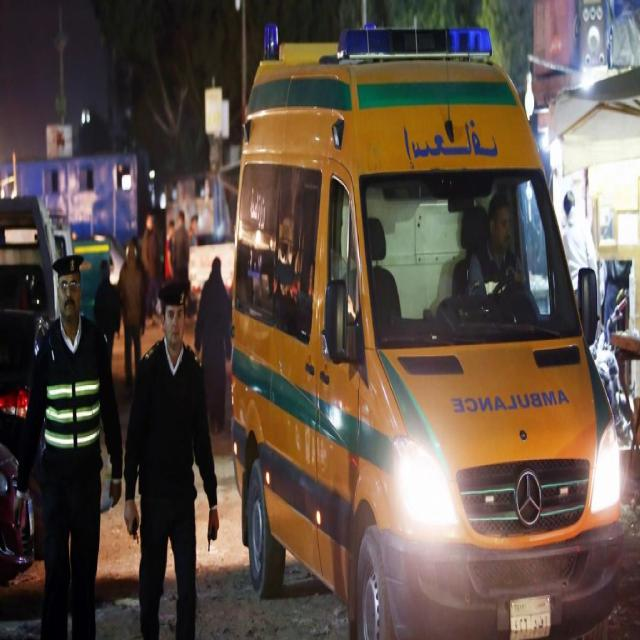Ambulance: (225, 46, 588, 640)
person: (13, 252, 122, 638), (123, 279, 219, 639), (466, 191, 524, 299)
police-car: (0, 213, 91, 321)
